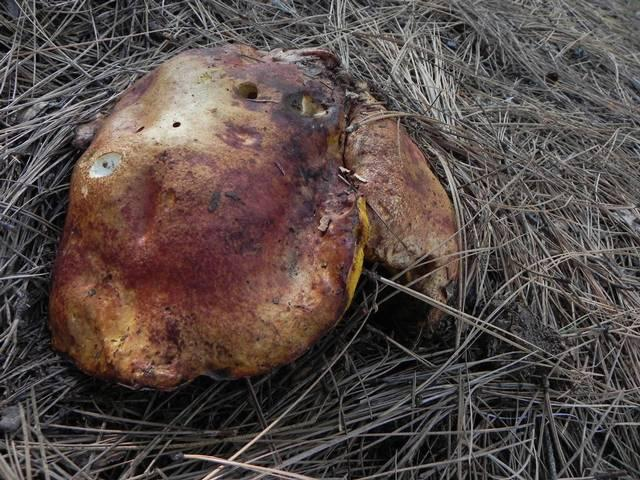Edible Mushroom: (46, 41, 461, 391)
